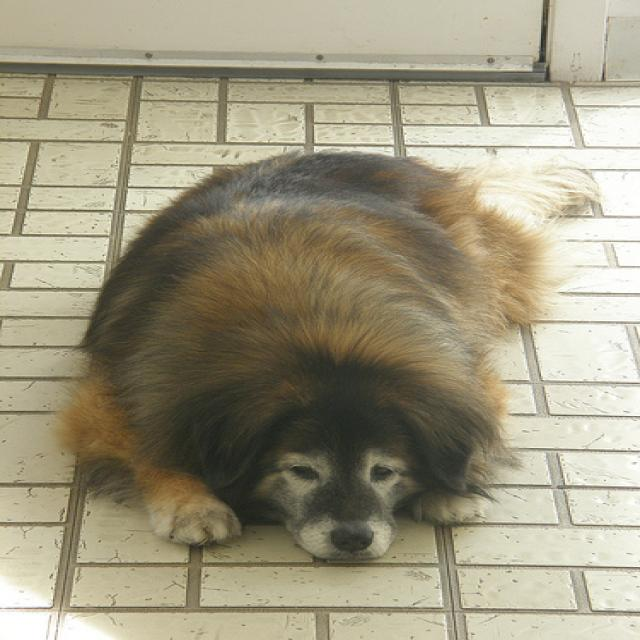dog-leonberger: (51, 143, 589, 567)
